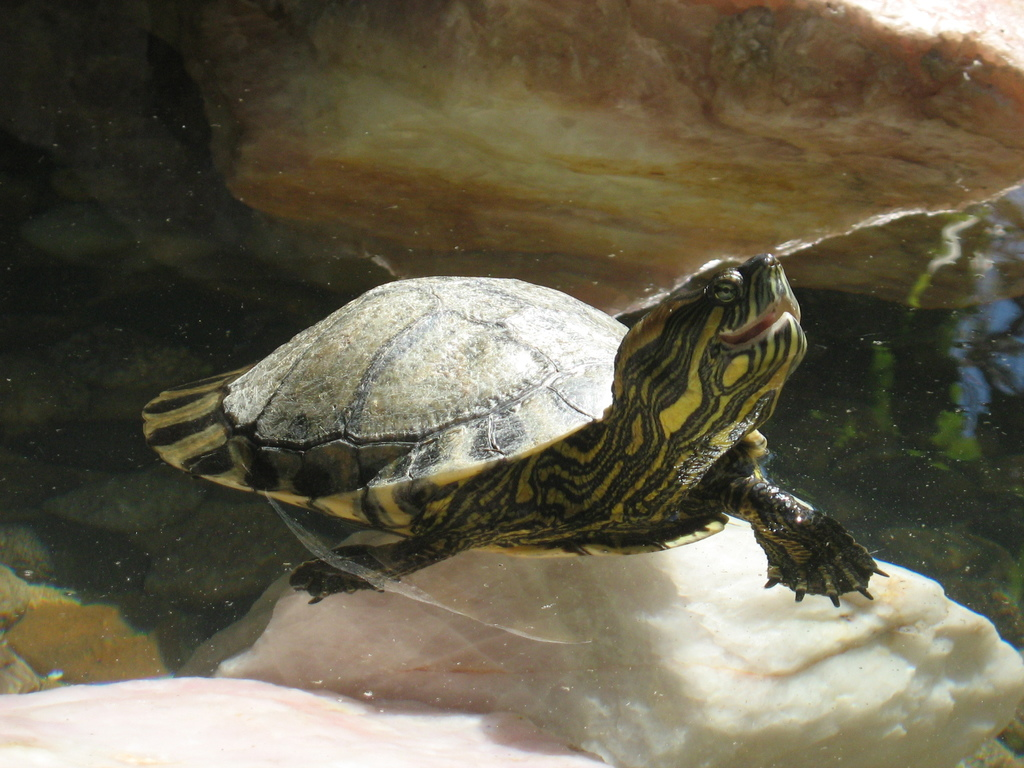Sea turtles: (144, 252, 883, 603)
